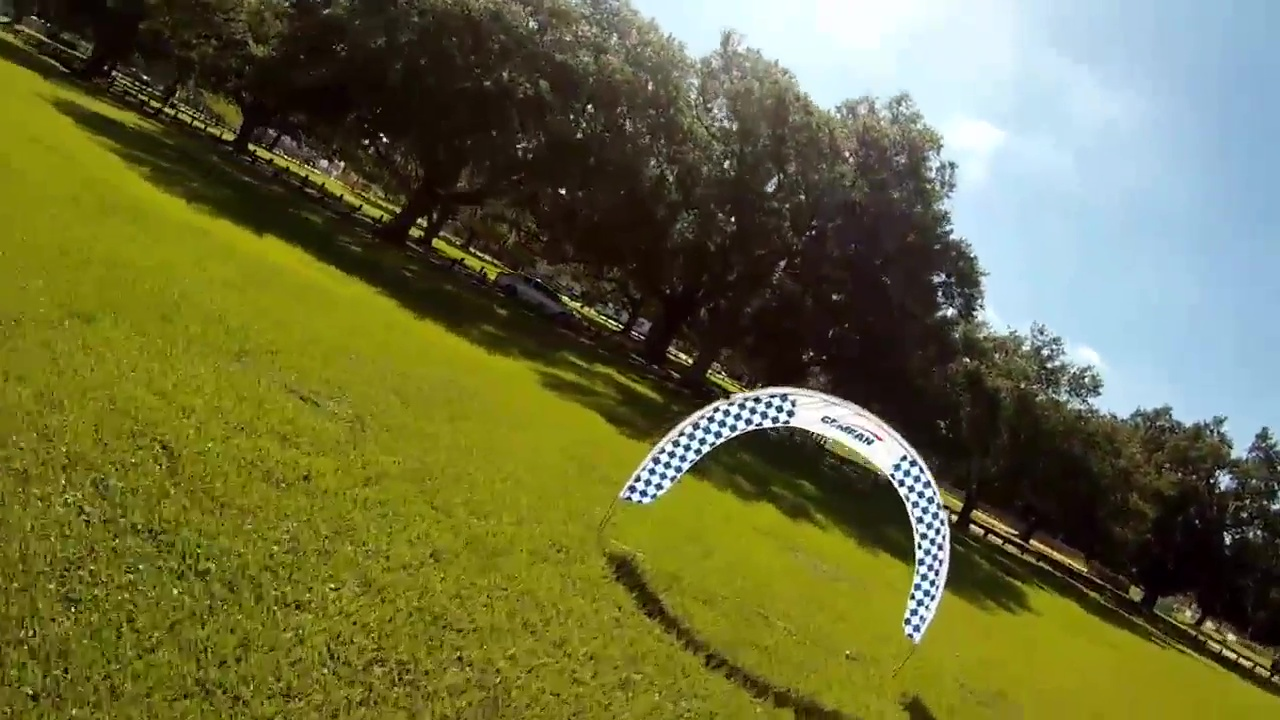gate: (617, 382, 951, 640)
